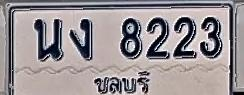2: (173, 16, 196, 58), (147, 16, 170, 58)
3: (200, 16, 222, 58)
8: (120, 18, 141, 58)
A07: (70, 18, 92, 60)
A25: (34, 18, 63, 61)
CBI: (91, 68, 153, 95)
